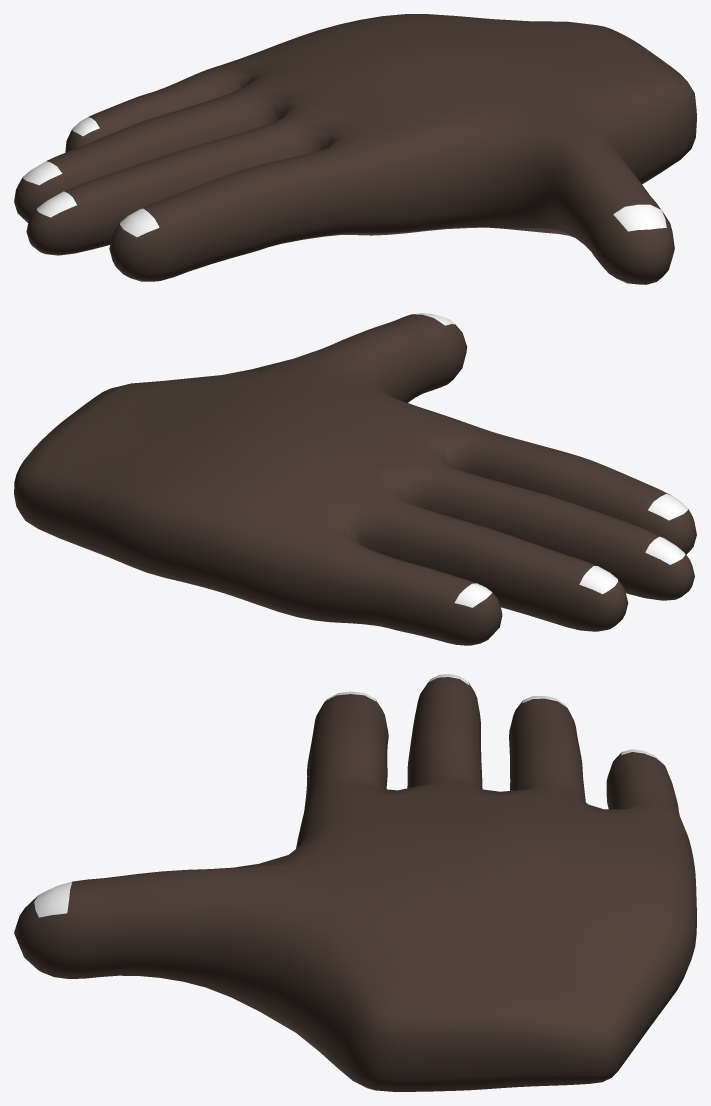
The model's file is lowPolyHand.glb.
The picture shows the model from 3 angles, top to bottom: view 1: azimuth 30°, elevation 25°; view 2: azimuth 150°, elevation 25°; view 3: azimuth 270°, elevation 25°; orthographic projection. The views are drawn at different scales.
Parts seen in each view (by area): view 1: Cube; view 2: Cube; view 3: Cube.
Boxes of the visible parts, bbox=[...] form: Cube: bbox=[14, 14, 696, 284]; Cube: bbox=[14, 313, 696, 645]; Cube: bbox=[14, 674, 696, 1091].
Size of the model in its own units: 0.1392 by 0.026 by 0.1131.
Materials: 3 (1 with a texture image).
